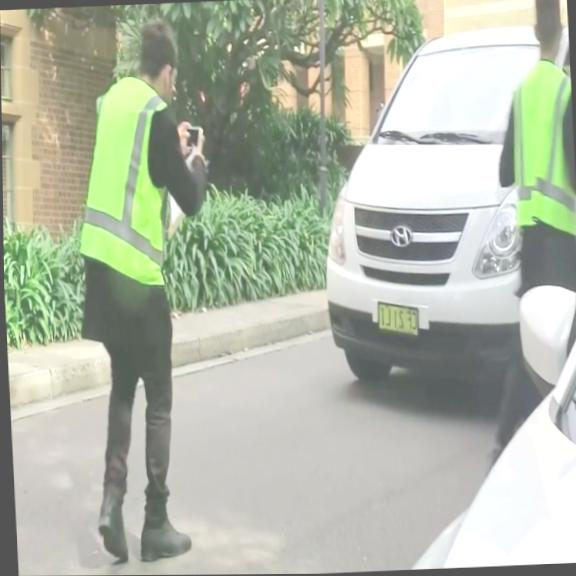safety_vest: (71, 74, 174, 288), (507, 60, 576, 236)
